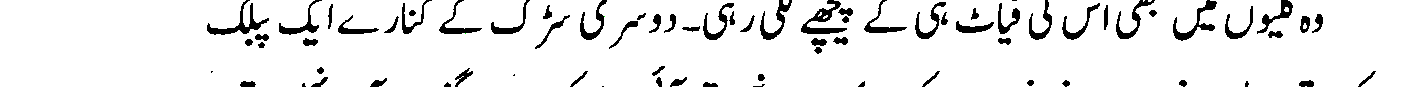bay_shosha: (238, 21, 253, 49)
